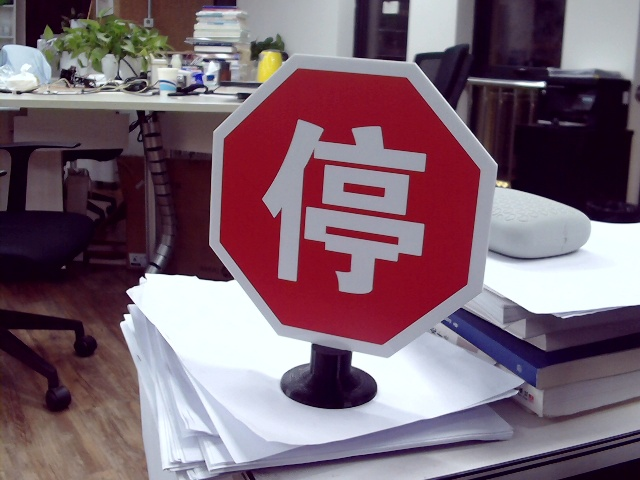stop: (263, 106, 431, 296)
